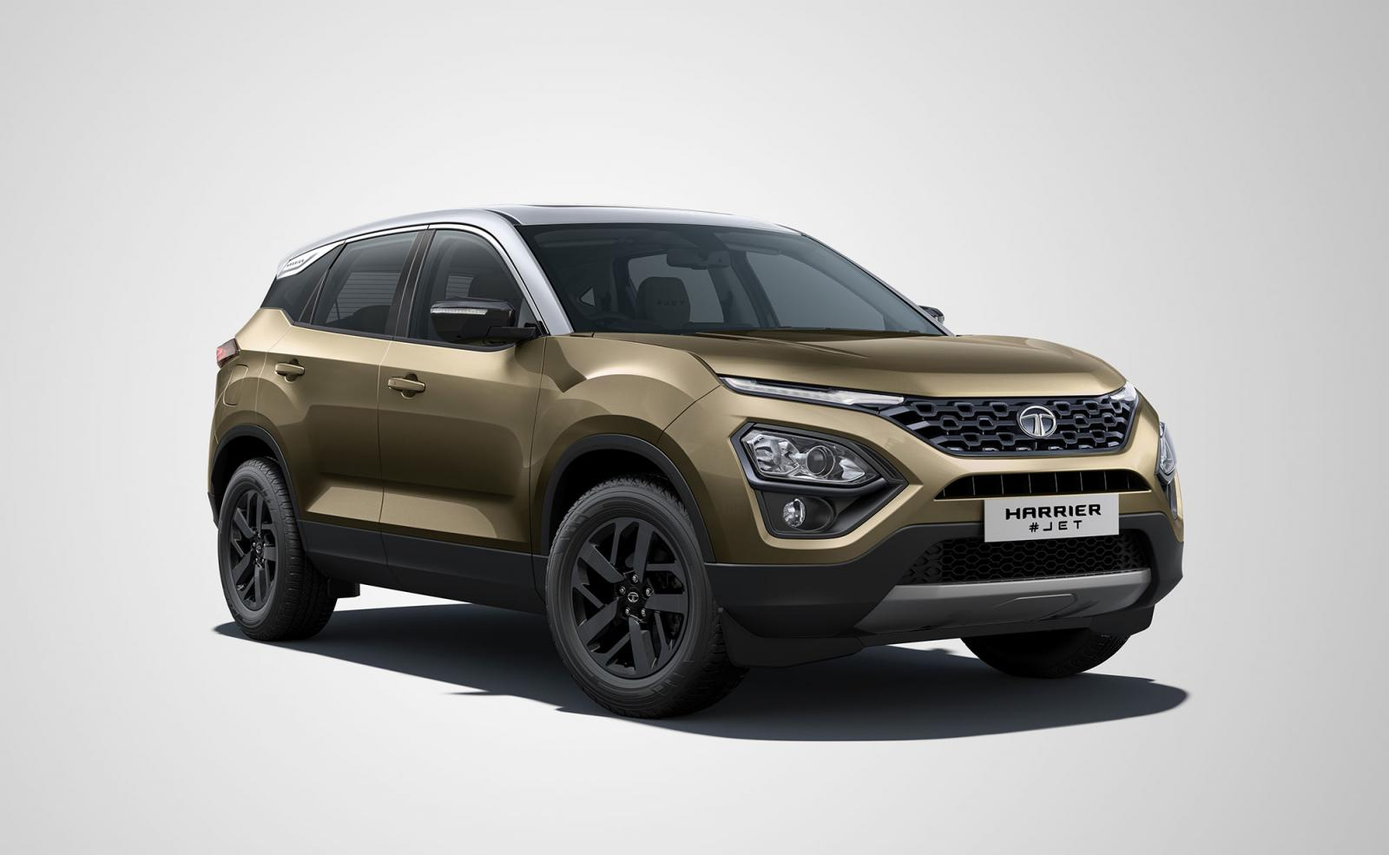Imprimante: (354, 232, 579, 548)
